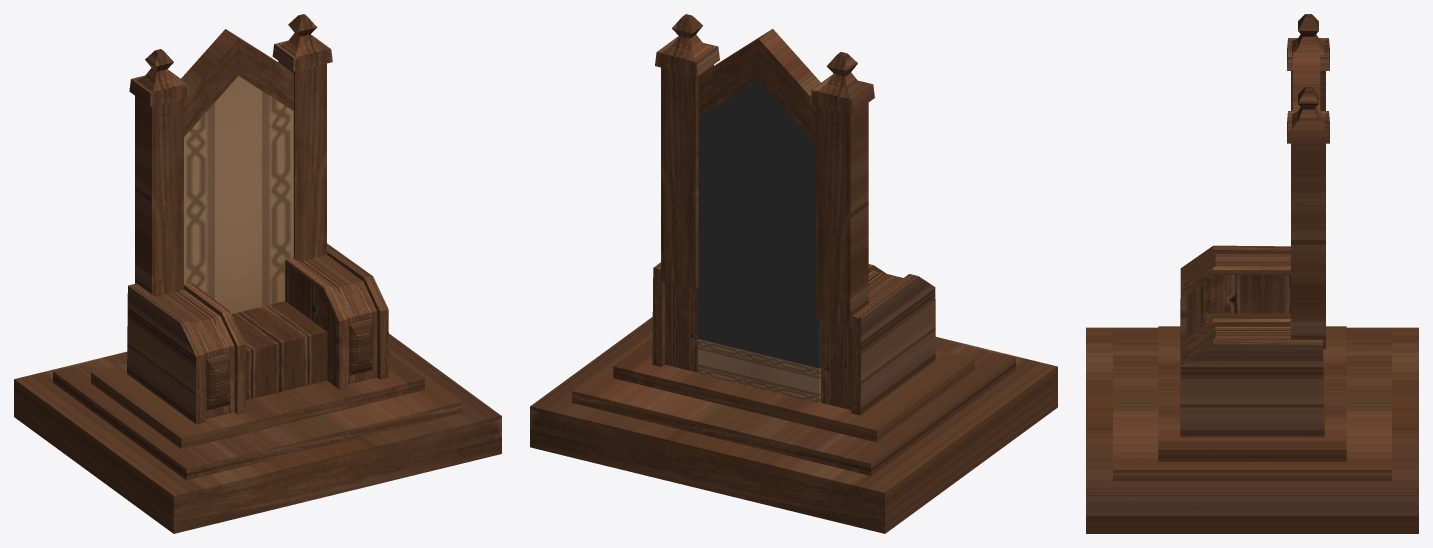
Rendered from Throne_01.glb.
The picture shows the model from 3 angles, left to right: view 1: azimuth 30°, elevation 25°; view 2: azimuth 150°, elevation 25°; view 3: azimuth 270°, elevation 25°; orthographic projection. The views are drawn at different scales.
Parts seen in each view (by area): view 1: Throne_01; view 2: Throne_01; view 3: Throne_01.
Boxes of the visible parts, box(x1,y1,x2,y2) form: Throne_01: box(14, 14, 501, 533); Throne_01: box(530, 14, 1057, 533); Throne_01: box(1086, 14, 1418, 533).
Size of the model in its own units: 7.49 by 8.35 by 6.31.
1 material, 1 textured.
